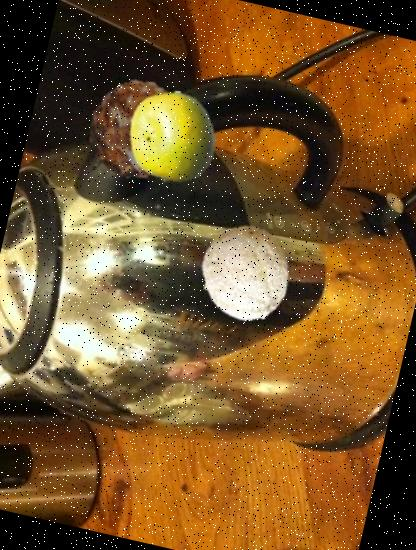Cantaloupe: (186, 214, 304, 332)
Pineapple: (74, 68, 196, 190)
Pomelo: (118, 81, 230, 193)
